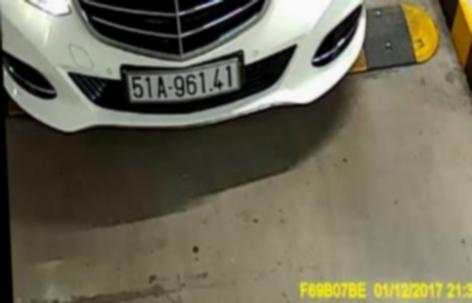License_Plate: (125, 66, 246, 105)
